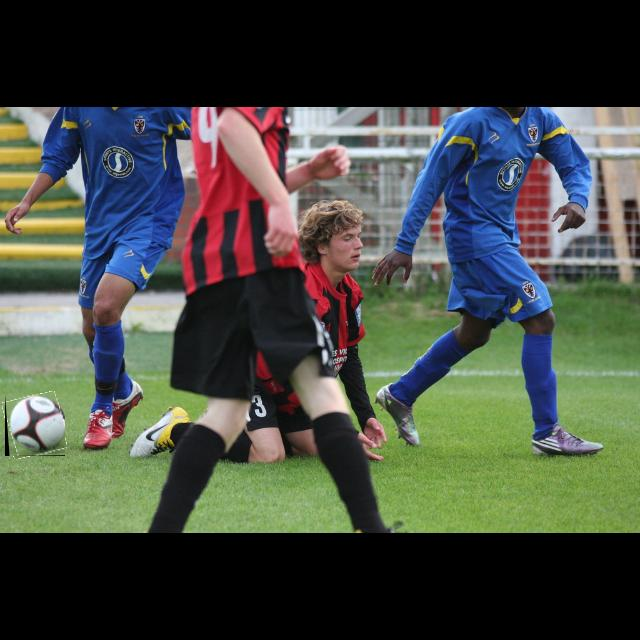Football: (5, 394, 65, 456)
